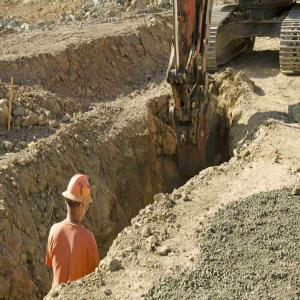red: (64, 172, 92, 222)
